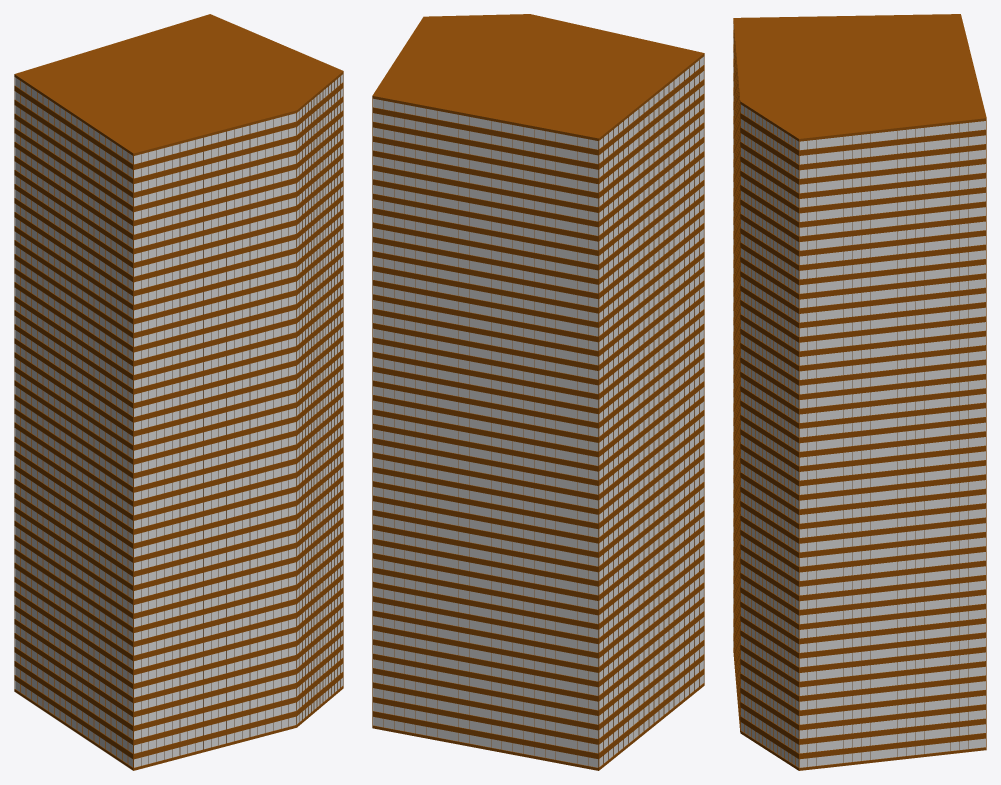
The model's file is 90KensingtonBoulevard.fbx.
The picture shows the model from 3 angles, left to right: view 1: azimuth 30°, elevation 25°; view 2: azimuth 150°, elevation 25°; view 3: azimuth 270°, elevation 25°; orthographic projection. The views are drawn at different scales.
Parts seen in each view (by area): view 1: 90KensingtonBoulevard; view 2: 90KensingtonBoulevard; view 3: 90KensingtonBoulevard.
Part boxes in pixels (x1,y1,x2,y2): 90KensingtonBoulevard: [14, 14, 343, 770]; 90KensingtonBoulevard: [372, 14, 704, 770]; 90KensingtonBoulevard: [733, 14, 986, 770].
Bounding box in the file's own units: 5599 × 13200 × 4799.
